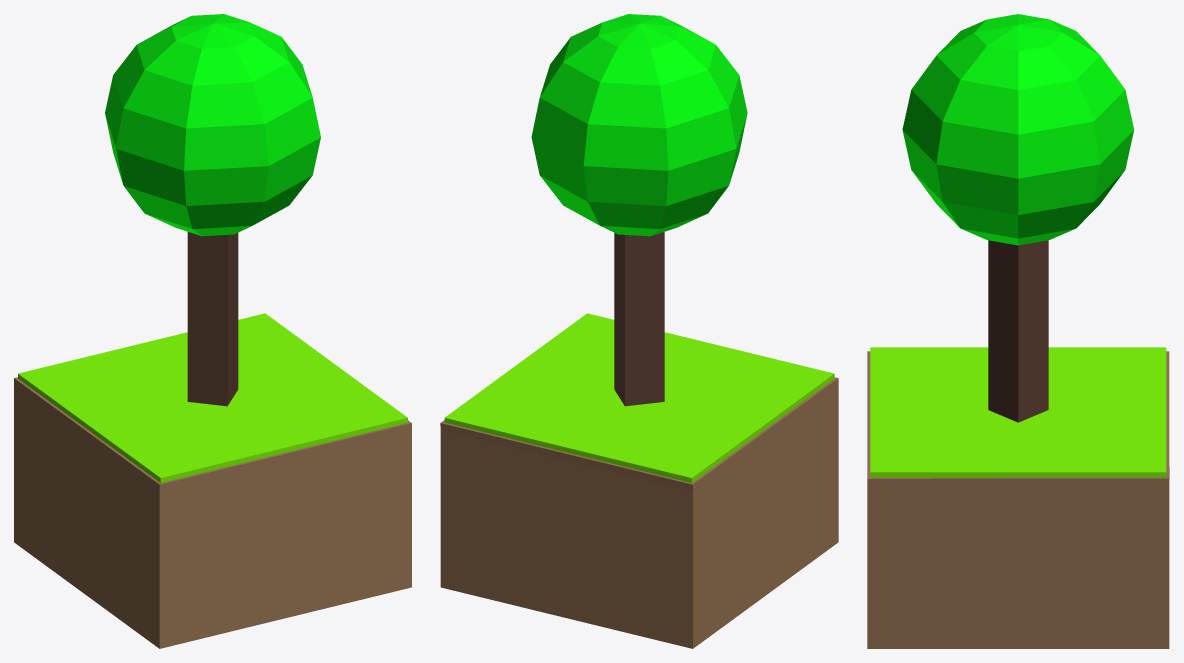
File: Tree_Medium_Tile.glb
3 views of the same model, side by side, from view 1: azimuth 30°, elevation 25°; view 2: azimuth 150°, elevation 25°; view 3: azimuth 270°, elevation 25° (orthographic). The views are drawn at different scales.
Parts seen in each view (by area): view 1: Grass, Sphere, Cylinder; view 2: Grass, Sphere, Cylinder; view 3: Grass, Sphere, Cylinder.
Boxes of the visible parts, x1=… form: Grass: x1=14, y1=313, x2=411, y2=648; Sphere: x1=105, y1=14, x2=320, y2=236; Cylinder: x1=187, y1=232, x2=238, y2=406; Grass: x1=440, y1=313, x2=838, y2=648; Sphere: x1=531, y1=14, x2=747, y2=236; Cylinder: x1=614, y1=232, x2=664, y2=406; Grass: x1=867, y1=347, x2=1169, y2=648; Sphere: x1=902, y1=14, x2=1134, y2=245; Cylinder: x1=988, y1=240, x2=1048, y2=422.
Size of the model in its own units: 1 by 2.05 by 1.
